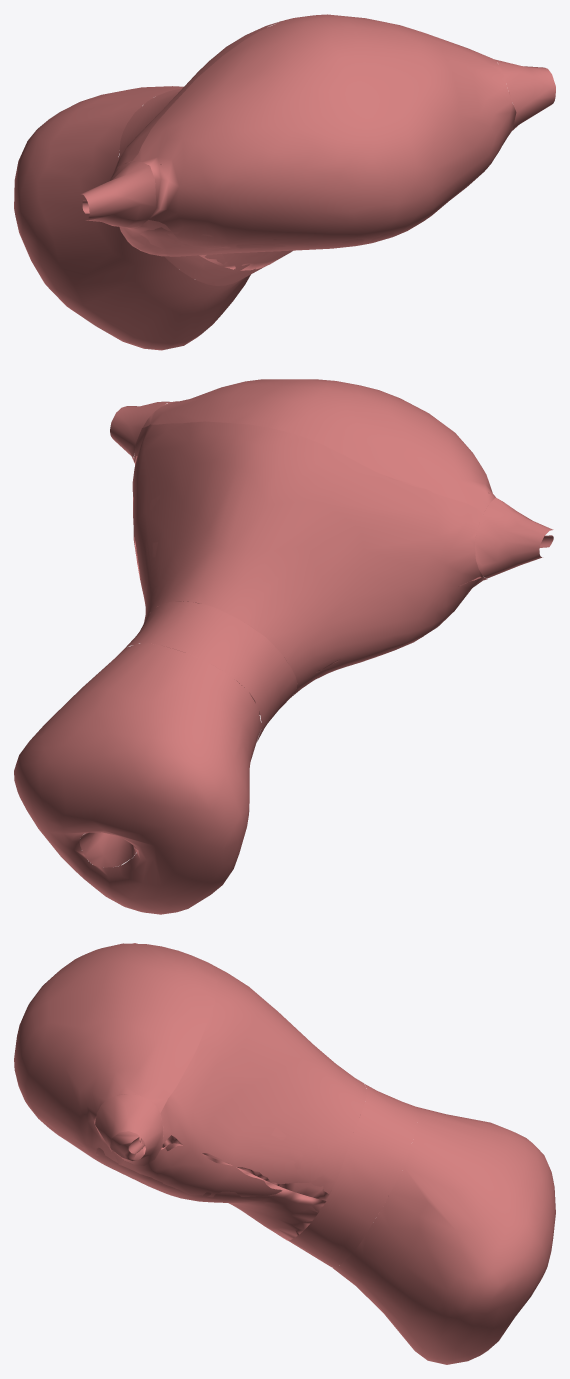
Rendered from vh_f_uterus-20.glb.
The picture shows the model from 3 angles, top to bottom: view 1: azimuth 30°, elevation 25°; view 2: azimuth 150°, elevation 25°; view 3: azimuth 270°, elevation 25°; orthographic projection. The views are drawn at different scales.
Visible parts, largest first — view 1: VH_F_fundus_of_uterus, VH_F_cervix, VH_F_cornua, VH_F_posterior_wall_of_uterus, VH_F_lower_uterine_segment, VH_F_body_of_uterus; view 2: VH_F_body_of_uterus, VH_F_cervix, VH_F_fundus_of_uterus, VH_F_lower_uterine_segment, VH_F_cornua, VH_F_external_cervical_os, VH_F_anterior_wall_of_uterus; view 3: VH_F_cervix, VH_F_body_of_uterus, VH_F_fundus_of_uterus, VH_F_lower_uterine_segment, VH_F_posterior_wall_of_uterus, VH_F_cornua, VH_F_anterior_wall_of_uterus.
Boxes of the visible parts, bbox=[...] form: VH_F_fundus_of_uterus: bbox=[132, 14, 516, 250]; VH_F_cervix: bbox=[14, 86, 250, 350]; VH_F_cornua: bbox=[81, 59, 555, 228]; VH_F_posterior_wall_of_uterus: bbox=[130, 145, 501, 270]; VH_F_lower_uterine_segment: bbox=[119, 88, 263, 285]; VH_F_body_of_uterus: bbox=[113, 19, 511, 270]; VH_F_body_of_uterus: bbox=[132, 421, 487, 697]; VH_F_cervix: bbox=[14, 643, 261, 914]; VH_F_fundus_of_uterus: bbox=[142, 379, 495, 514]; VH_F_lower_uterine_segment: bbox=[125, 601, 297, 741]; VH_F_cornua: bbox=[110, 401, 553, 578]; VH_F_external_cervical_os: bbox=[79, 832, 136, 867]; VH_F_anterior_wall_of_uterus: bbox=[133, 421, 489, 672]; VH_F_cervix: bbox=[333, 1107, 555, 1364]; VH_F_body_of_uterus: bbox=[111, 962, 366, 1222]; VH_F_fundus_of_uterus: bbox=[14, 943, 217, 1163]; VH_F_lower_uterine_segment: bbox=[288, 1083, 419, 1267]; VH_F_posterior_wall_of_uterus: bbox=[43, 1122, 326, 1240]; VH_F_cornua: bbox=[95, 943, 163, 1165]; VH_F_anterior_wall_of_uterus: bbox=[117, 972, 329, 1200].
Size of the model in its own units: 0.0525 by 0.047 by 0.0587.
